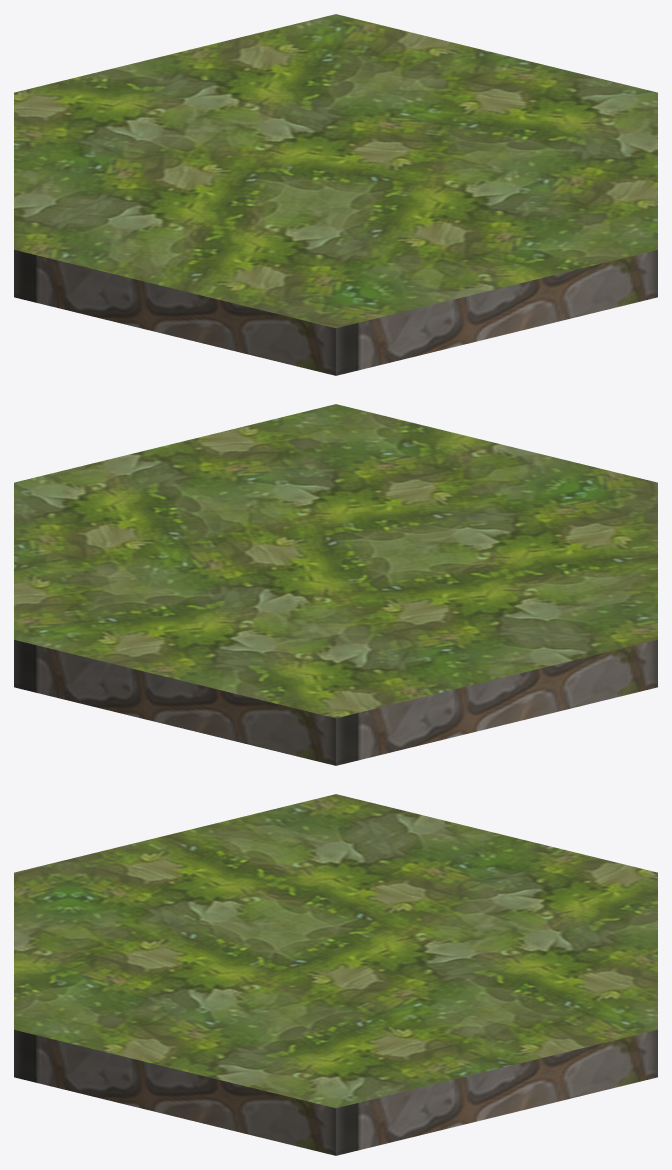
Rendered from hex_ground_moss.glb.
The picture shows the model from 3 angles, top to bottom: view 1: azimuth 30°, elevation 25°; view 2: azimuth 150°, elevation 25°; view 3: azimuth 270°, elevation 25°; orthographic projection.
Visible parts, largest first — view 1: Painted occupation surface, Canonical hex foundation; view 2: Painted occupation surface, Canonical hex foundation; view 3: Painted occupation surface, Canonical hex foundation.
Boxes of the visible parts, x1=… form: Painted occupation surface: x1=14, y1=14, x2=657, y2=328; Canonical hex foundation: x1=14, y1=250, x2=657, y2=375; Painted occupation surface: x1=14, y1=404, x2=657, y2=718; Canonical hex foundation: x1=14, y1=640, x2=657, y2=765; Painted occupation surface: x1=14, y1=794, x2=657, y2=1108; Canonical hex foundation: x1=14, y1=1030, x2=657, y2=1155.
Size of the model in its own units: 5.1 by 0.36 by 4.42.
2 materials, 2 textured.
